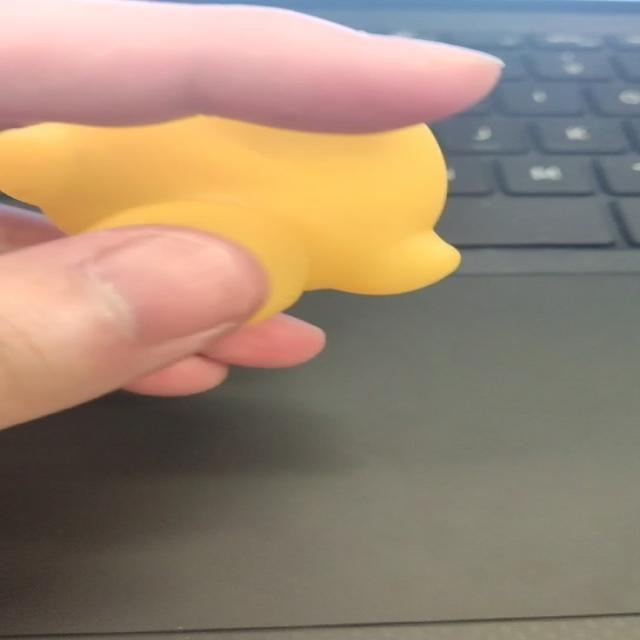rubber-duck: (0, 114, 458, 320)
